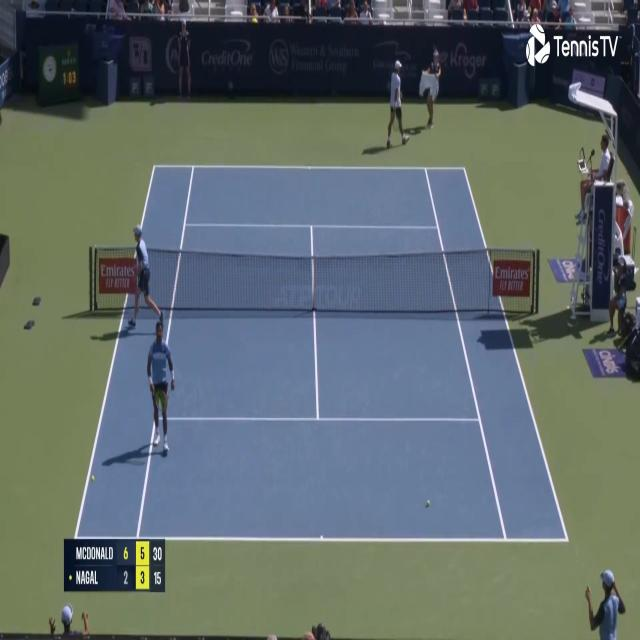tennis-player: (143, 317, 178, 457), (385, 57, 409, 150)
